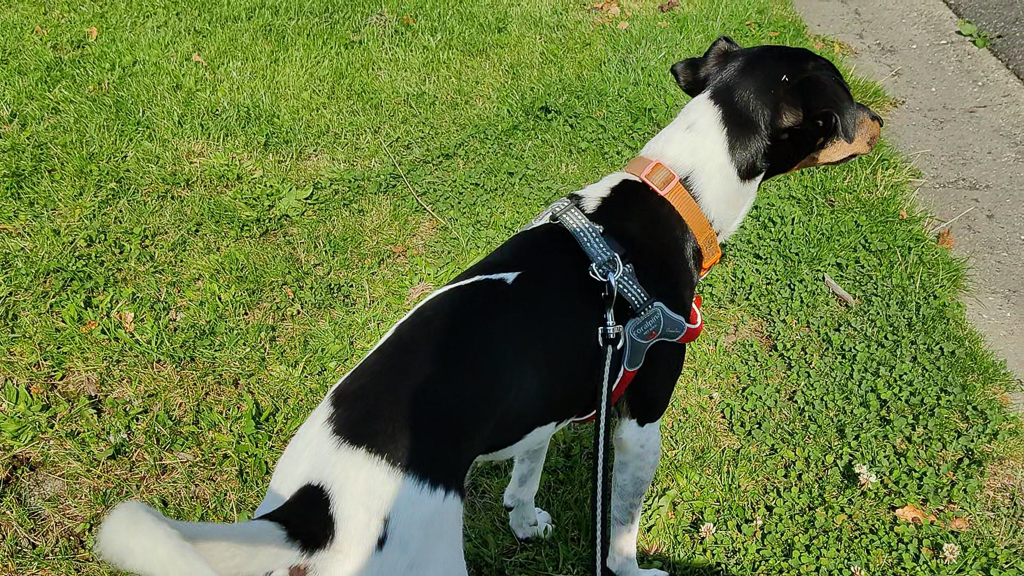Dog: (87, 27, 892, 576)
